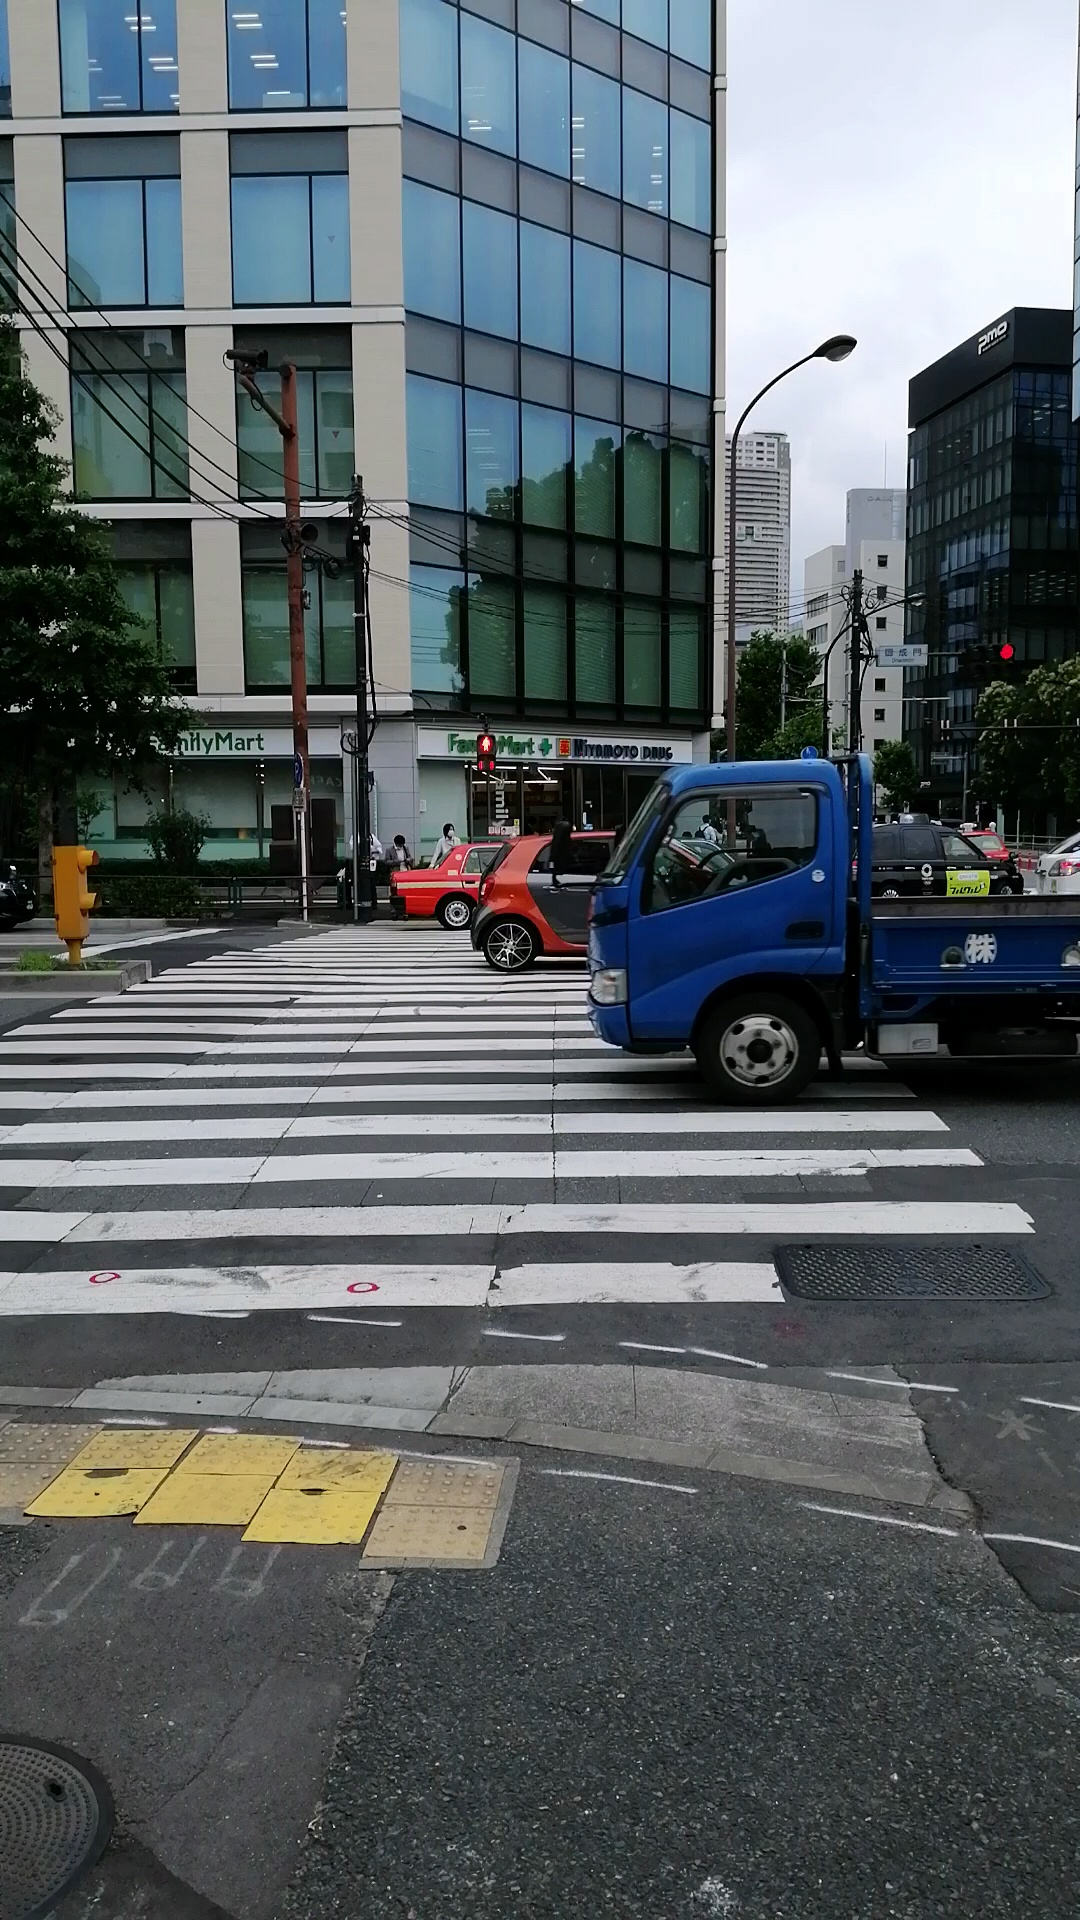red: (475, 731, 496, 774)
